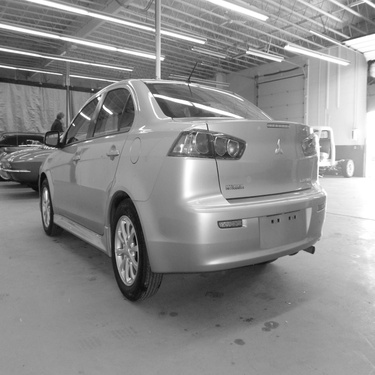car: (33, 75, 333, 304), (1, 121, 80, 182), (4, 145, 77, 184)
